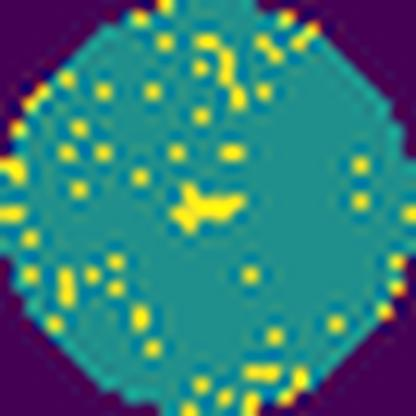Center: (166, 176, 251, 236)
